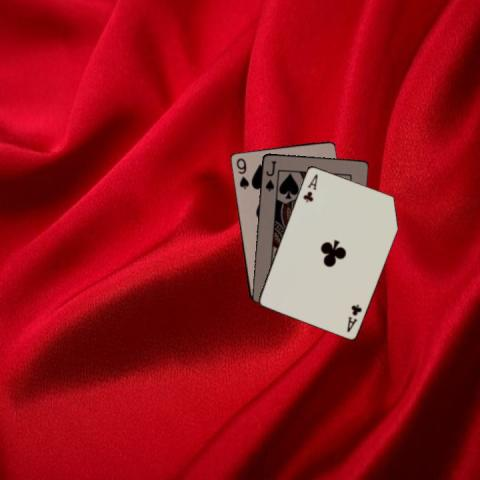9s: (233, 154, 250, 190)
Ac: (343, 302, 363, 334), (300, 171, 319, 203)
Js: (262, 157, 277, 193)
